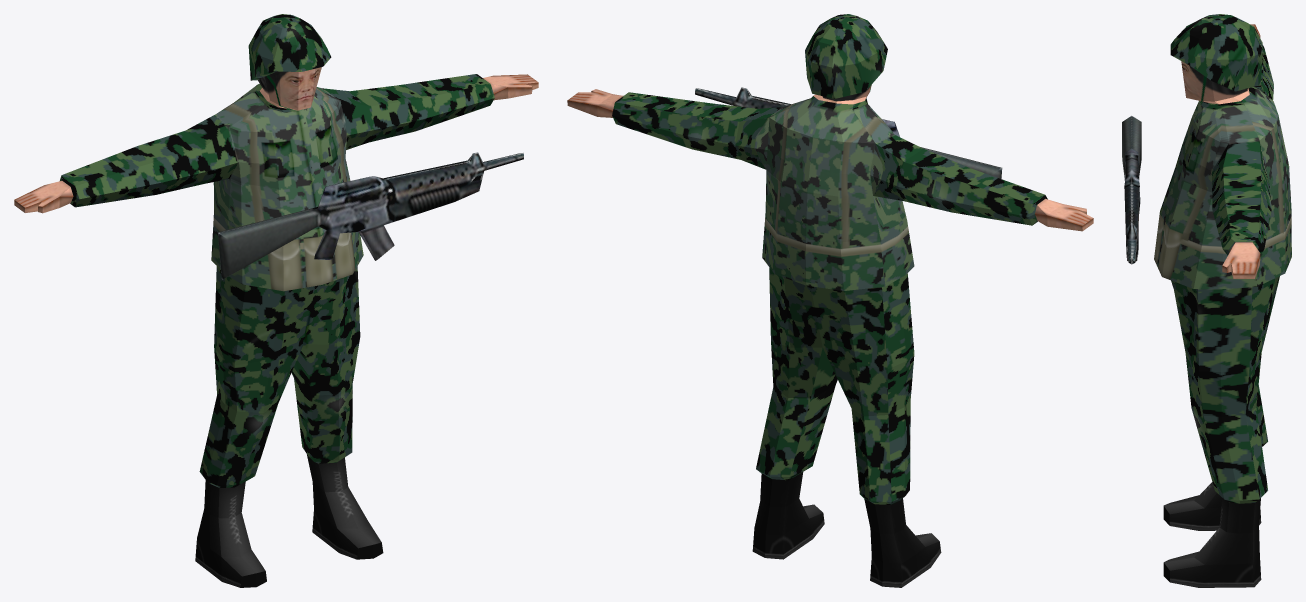
Rendered from soldier.obj.
3 views of the same model, side by side, from view 1: azimuth 30°, elevation 25°; view 2: azimuth 150°, elevation 25°; view 3: azimuth 270°, elevation 25° (orthographic).
Visible parts, largest first — view 1: body, rifle; view 2: body, rifle; view 3: body, rifle.
Part boxes in pixels (box(x1,y1,x2,y2)): body: box(14, 14, 538, 587); rifle: box(218, 152, 523, 279); body: box(567, 14, 1093, 587); rifle: box(695, 87, 1002, 178); body: box(1154, 14, 1291, 587); rifle: box(1122, 115, 1141, 264).
Size of the model in its own units: 2.86 by 2.86 by 0.8226.
